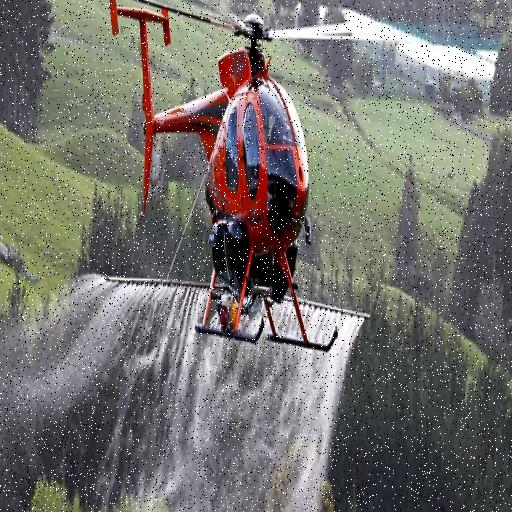helicopter: (107, 1, 349, 368)
